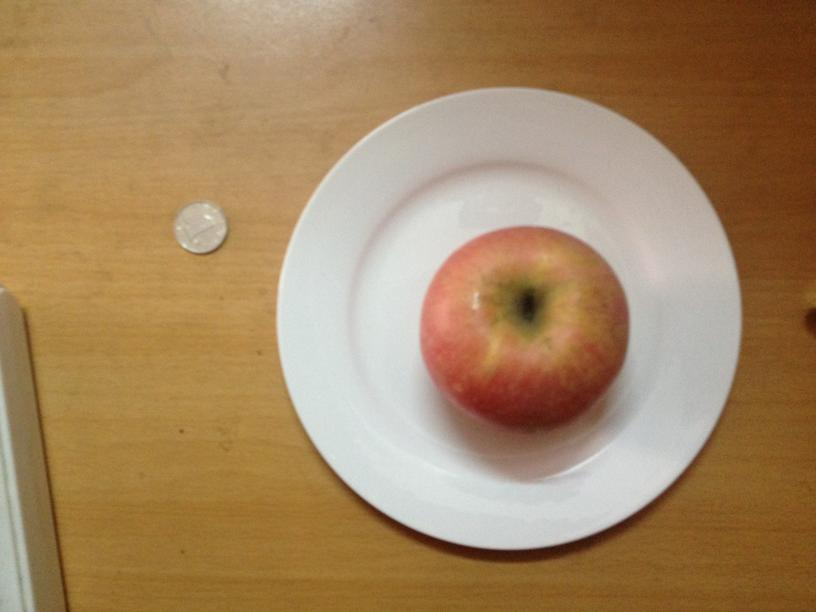apple: (423, 228, 629, 433)
coin: (171, 200, 228, 254)
